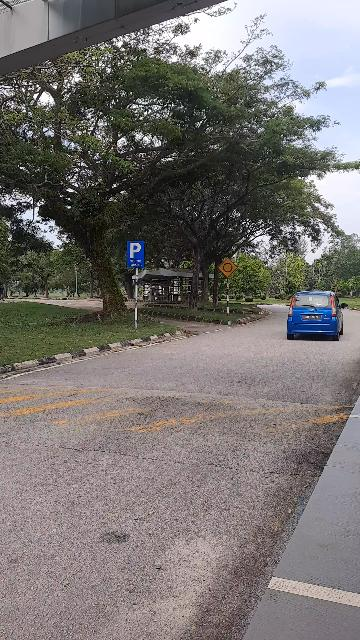License_Plate: (303, 314, 322, 320)
car: (289, 290, 347, 342)
